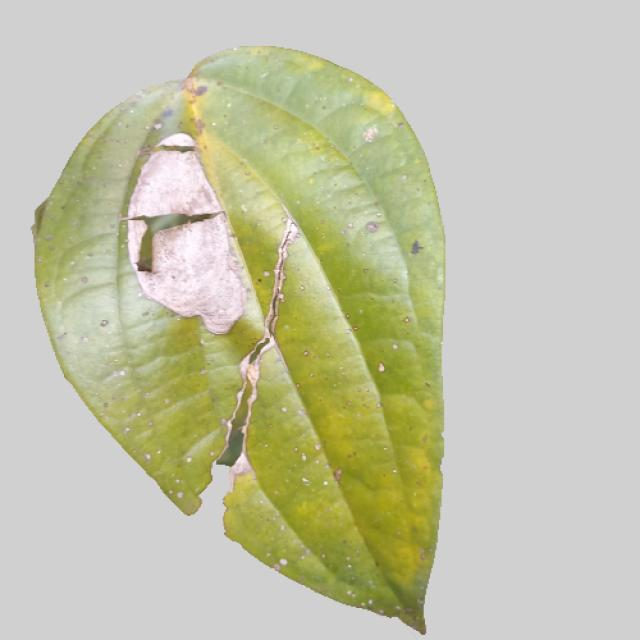leaf-blight: (19, 59, 448, 637)
